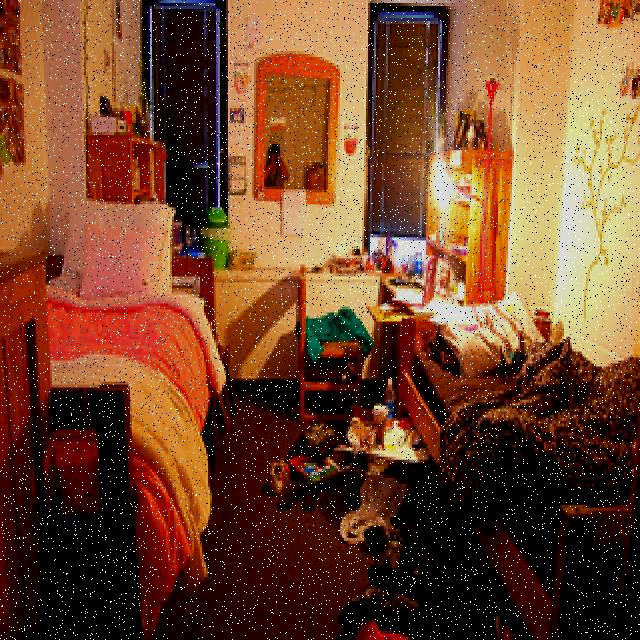bed: (413, 288, 640, 617), (32, 208, 218, 579)
